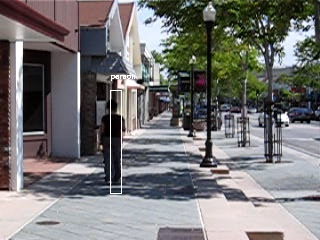person: (99, 98, 126, 188), (98, 98, 125, 188), (100, 98, 127, 188), (99, 97, 126, 187), (99, 99, 126, 189)
target_negative: (250, 41, 318, 239), (34, 10, 94, 189), (135, 173, 255, 238), (240, 227, 317, 239), (293, 214, 314, 225), (307, 159, 308, 174)
